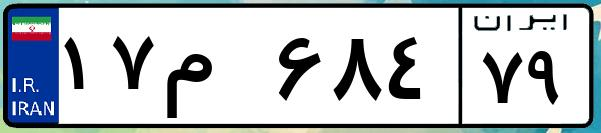1: (57, 26, 110, 100)
4: (385, 28, 445, 110)
6: (270, 28, 330, 110)
7: (475, 38, 525, 113), (110, 28, 158, 98)
8: (330, 28, 385, 110)
9: (525, 38, 570, 115)
م: (158, 20, 270, 120)
